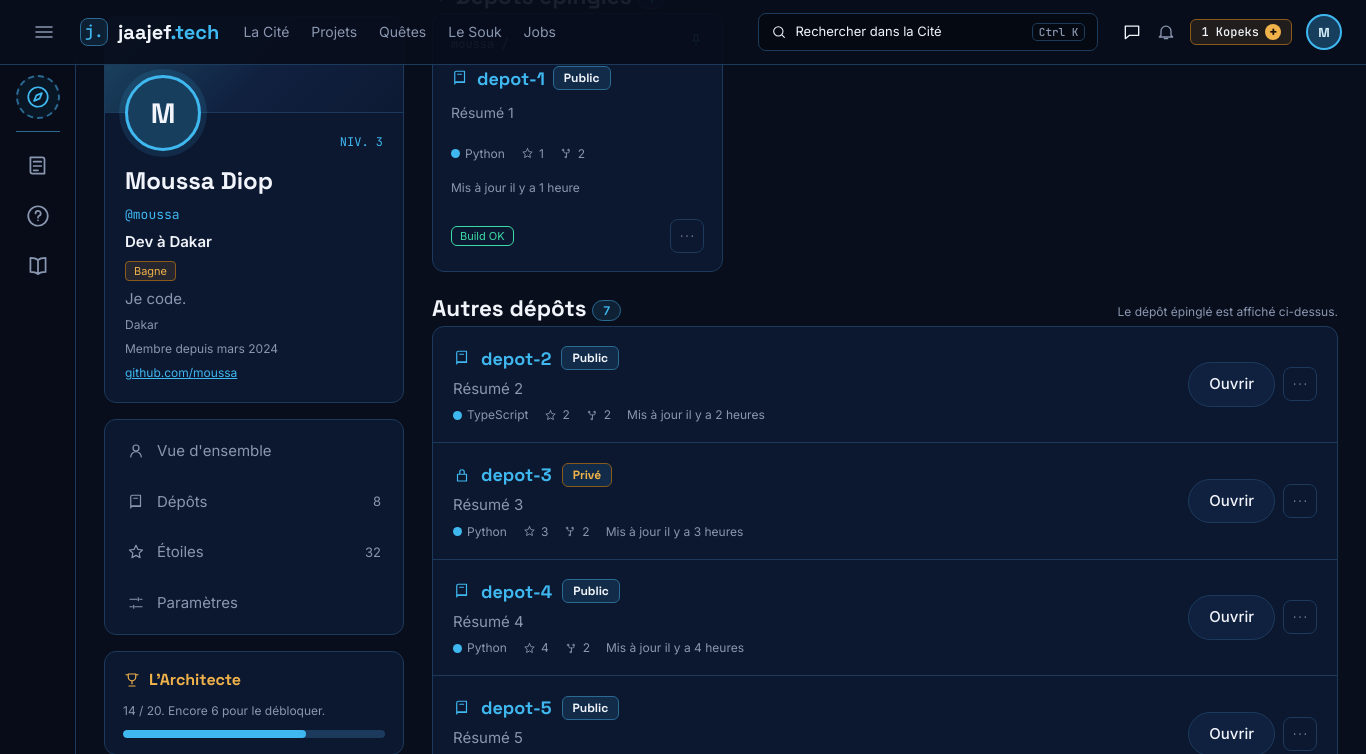
Test: My repositories › shows a refusal, for example when too many are pinned
This screenshot has width=1366, height=754.
(page scrolled)
Click the button named "Actions pour depot-2" at (1300, 384), box [1283,367,1317,401]
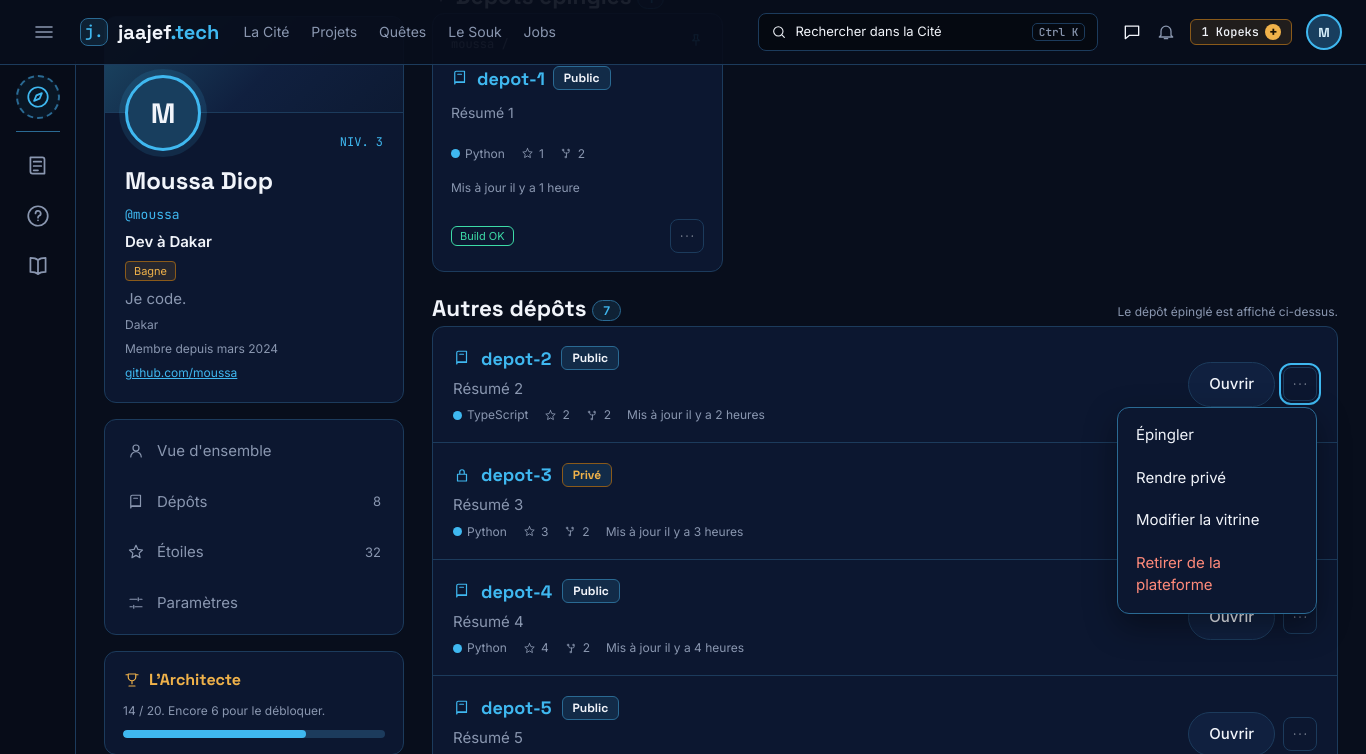
Click the menu item "Épingler" at (1217, 436), box [1124,414,1310,457]
(page scrolled)
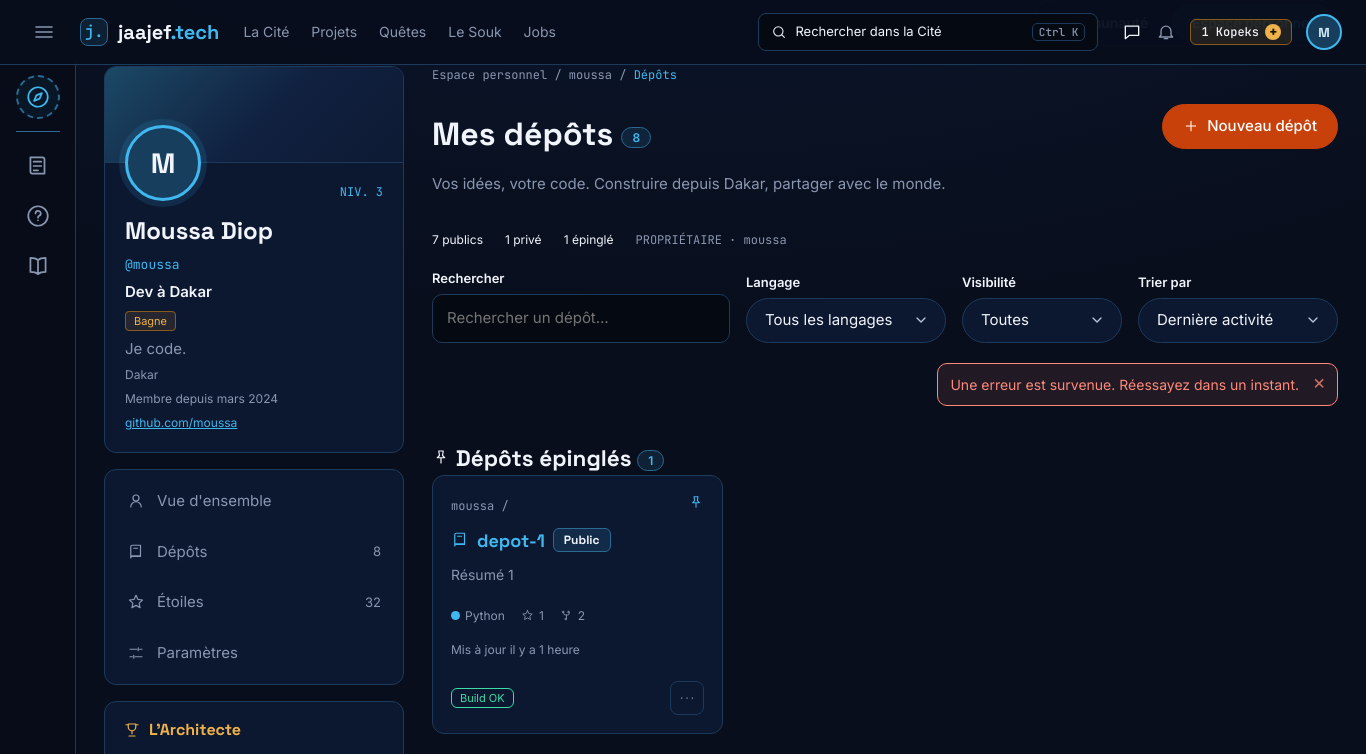
Result: the message "Une erreur est survenue. Réessayez dans un instant." is shown at [938,362,1338,406]
